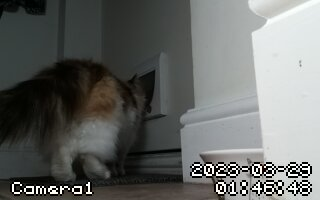clara: (8, 64, 150, 185)
